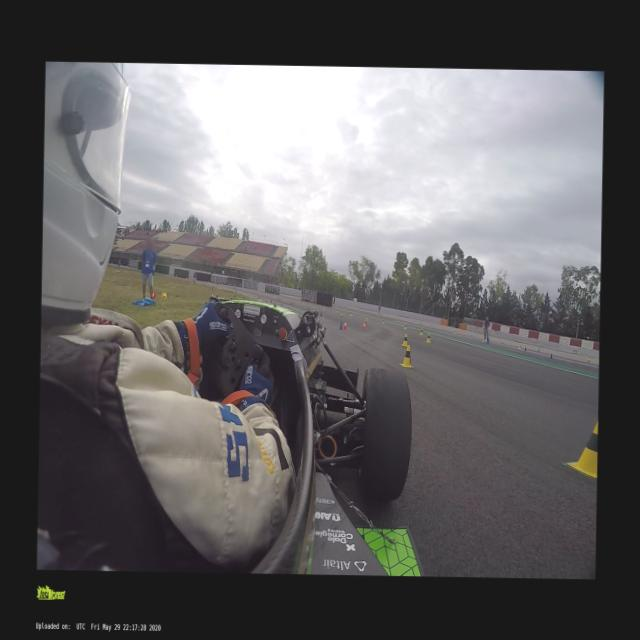blue_cone: (338, 320, 342, 329), (319, 310, 322, 318)
orange_cone: (342, 320, 347, 330), (150, 292, 156, 300), (361, 322, 366, 330), (362, 318, 367, 326), (340, 312, 342, 317)
yellow_cone: (566, 414, 598, 479), (399, 345, 413, 367), (400, 334, 408, 346), (424, 333, 430, 342), (161, 291, 167, 300), (419, 328, 423, 336), (381, 317, 385, 323), (349, 310, 352, 316), (365, 314, 368, 320), (404, 322, 406, 328), (453, 330, 456, 334), (518, 344, 520, 349), (429, 324, 432, 327), (336, 308, 338, 312), (412, 320, 414, 323)
